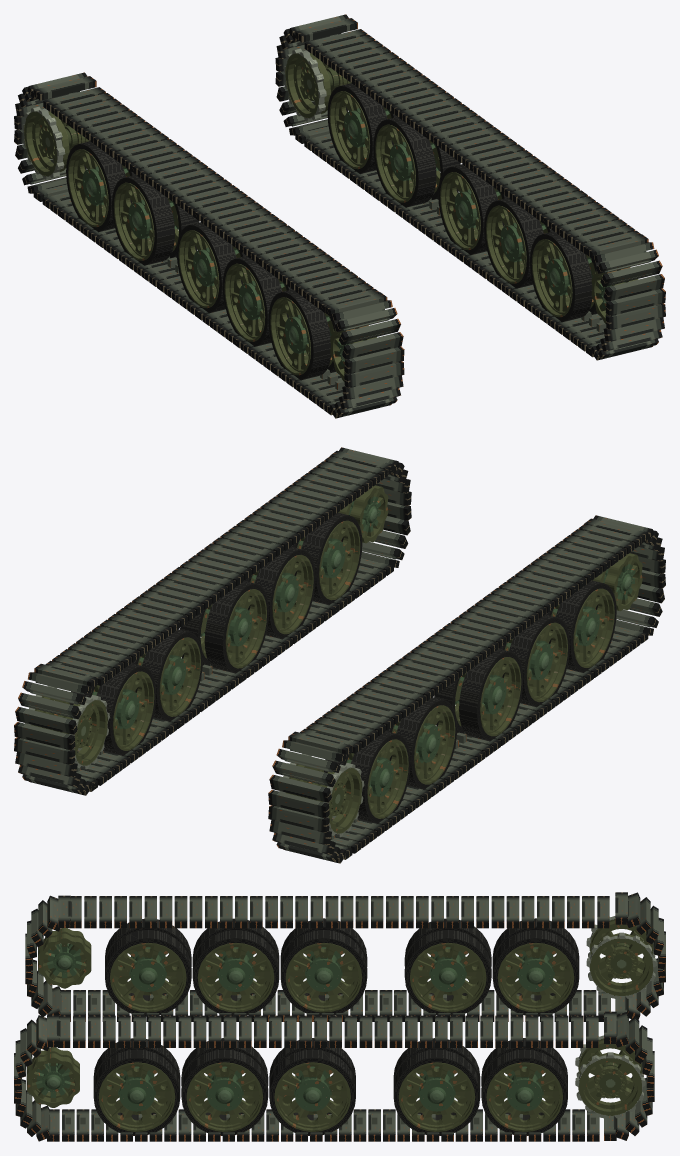
File: running_gear_LR.glb
The picture shows the model from 3 angles, top to bottom: view 1: azimuth 30°, elevation 25°; view 2: azimuth 150°, elevation 25°; view 3: azimuth 270°, elevation 25°; orthographic projection. The views are drawn at different scales.
Parts seen in each view (by area): view 1: TrackL_mesh, TrackL_mesh.001, tire_in.008, tire_in.003, tire_in, tire_in.005, tire_in.006, tire_in.007, tire_in.004, tire_in.009, tire_in.002, tire_in.001 (+26 smaller); view 2: TrackL_mesh, TrackL_mesh.001, tire_in.007, tire_in.002, tire_in.004, tire_in, tire_in.006, tire_in.009, tire_in.003, tire_in.001, tire_in.008, tire_in.005 (+24 smaller); view 3: TrackL_mesh.001, TrackL_mesh, tire_out.008, tire_out.006, tire_out.005, tire_out.001, tire_out.004, tire_out.007, tire_out.009, tire_out.002, tire_out.003, tire_out (+74 smaller).
Boxes of the visible parts, bbox=[...] form: TrackL_mesh: bbox=[14, 72, 404, 418]; TrackL_mesh.001: bbox=[275, 14, 665, 360]; tire_in.008: bbox=[373, 116, 436, 207]; tire_in.003: bbox=[112, 175, 174, 265]; tire_in: bbox=[268, 289, 330, 380]; tire_in.005: bbox=[530, 231, 592, 322]; tire_in.006: bbox=[484, 197, 543, 288]; tire_in.007: bbox=[438, 164, 497, 255]; tire_in.004: bbox=[66, 141, 125, 232]; tire_in.009: bbox=[327, 83, 387, 173]; tire_in.002: bbox=[176, 222, 236, 313]; tire_in.001: bbox=[222, 255, 282, 346]; TrackL_mesh: bbox=[268, 515, 665, 863]; TrackL_mesh.001: bbox=[14, 447, 411, 795]; tire_in.007: bbox=[204, 581, 268, 673]; tire_in.002: bbox=[459, 648, 523, 741]; tire_in.004: bbox=[351, 731, 410, 823]; tire_in: bbox=[555, 580, 616, 672]; tire_in.006: bbox=[255, 546, 315, 639]; tire_in.009: bbox=[96, 663, 156, 755]; tire_in.003: bbox=[396, 697, 457, 789]; tire_in.001: bbox=[509, 614, 569, 707]; tire_in.008: bbox=[142, 629, 202, 721]; tire_in.005: bbox=[301, 512, 362, 604]; TrackL_mesh.001: bbox=[14, 1011, 654, 1141]; TrackL_mesh: bbox=[25, 892, 665, 1021]; tire_out.008: bbox=[393, 1049, 480, 1135]; tire_out.006: bbox=[181, 1049, 268, 1135]; tire_out.005: bbox=[93, 1049, 180, 1135]; tire_out.001: bbox=[192, 930, 279, 1015]; tire_out.004: bbox=[492, 930, 579, 1016]; tire_out.007: bbox=[269, 1049, 355, 1135]; tire_out.009: bbox=[481, 1049, 567, 1135]; tire_out.002: bbox=[280, 930, 367, 1015]; tire_out.003: bbox=[404, 930, 491, 1015]; tire_out: bbox=[105, 930, 191, 1016].
Size of the model in its own units: 3.22 by 1.09 by 6.09.
16 materials, 16 textured.
